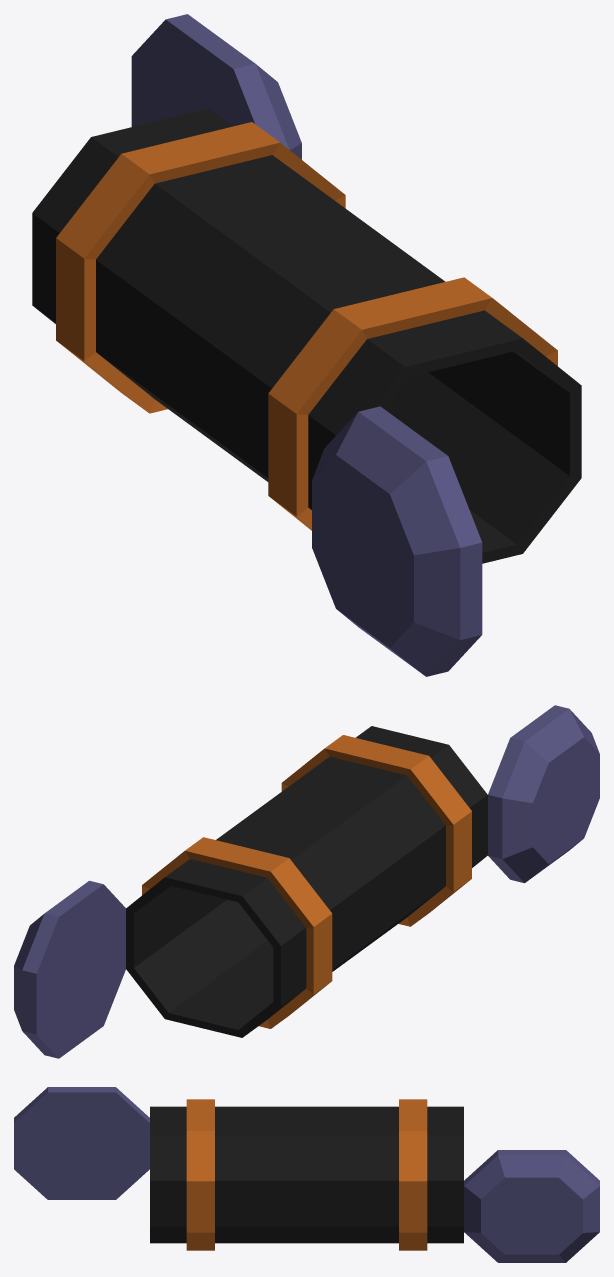
Rendered from Open Container 1.fbx.
3 views of the same model, one above another, from view 1: azimuth 30°, elevation 25°; view 2: azimuth 150°, elevation 25°; view 3: azimuth 270°, elevation 25° (orthographic). The views are drawn at different scales.
Parts seen in each view (by area): view 1: Open Container 1, Open Container 1 Back Door, Open Container 1 Front Door; view 2: Open Container 1, Open Container 1 Front Door, Open Container 1 Back Door; view 3: Open Container 1, Open Container 1 Front Door, Open Container 1 Back Door.
Part boxes in pixels (x1,y1,x2,y2): Open Container 1: (32, 108, 581, 563); Open Container 1 Back Door: (312, 406, 482, 676); Open Container 1 Front Door: (131, 14, 301, 159); Open Container 1: (126, 726, 487, 1037); Open Container 1 Front Door: (14, 880, 125, 1058); Open Container 1 Back Door: (488, 705, 599, 883); Open Container 1: (150, 1099, 463, 1250); Open Container 1 Front Door: (464, 1150, 599, 1262); Open Container 1 Back Door: (14, 1087, 149, 1199).
Size of the model in its own units: 1150 by 777 by 3450.
